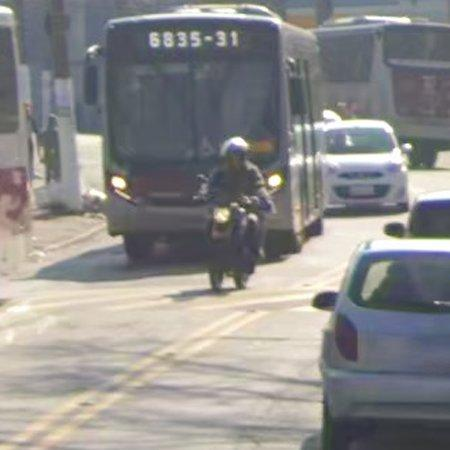buses: (104, 7, 322, 260)
